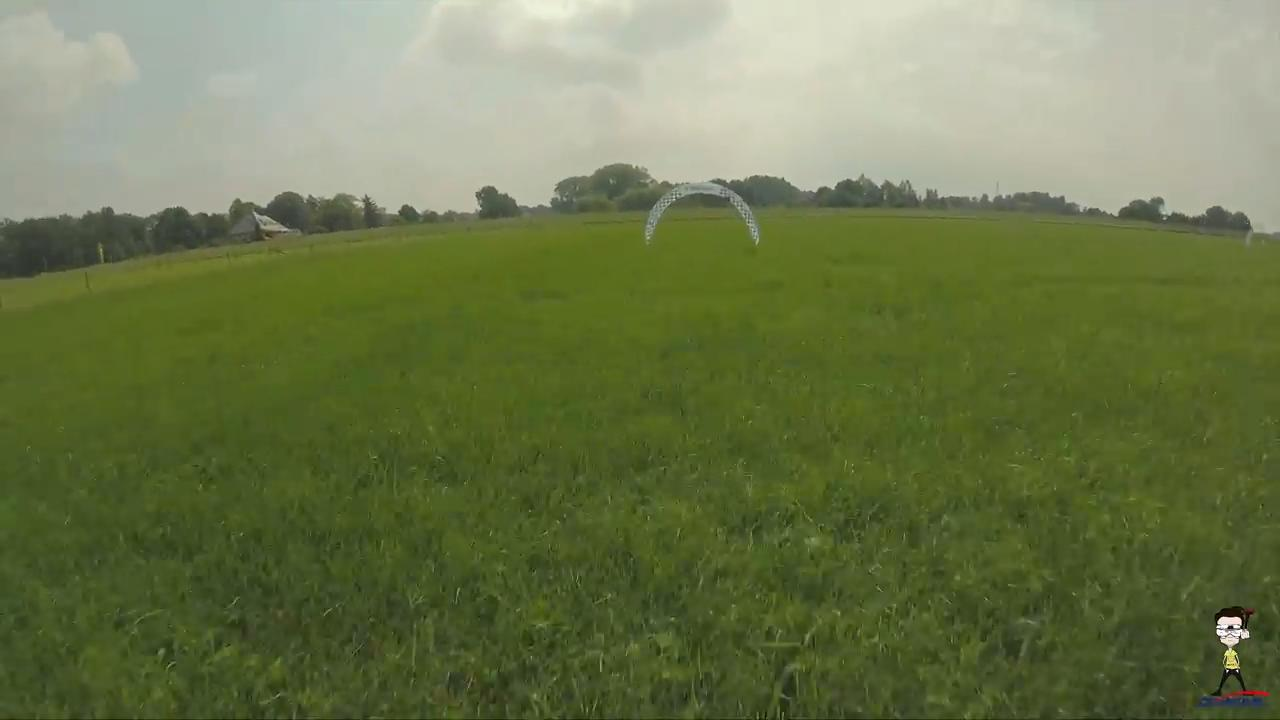gate: (642, 181, 760, 247)
